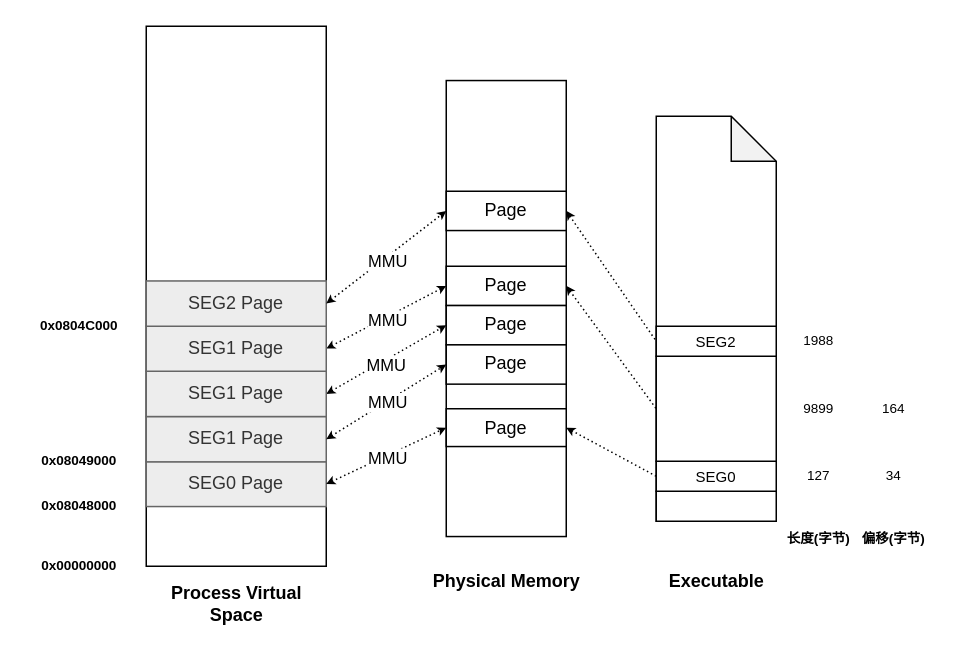
Image size: 963x653. Some labels were removed from this diagram. Each missing label, with the centre of its shape:
"ELF Header" belongs at point 715,505.
"SEG1" belongs at point 715,408.
